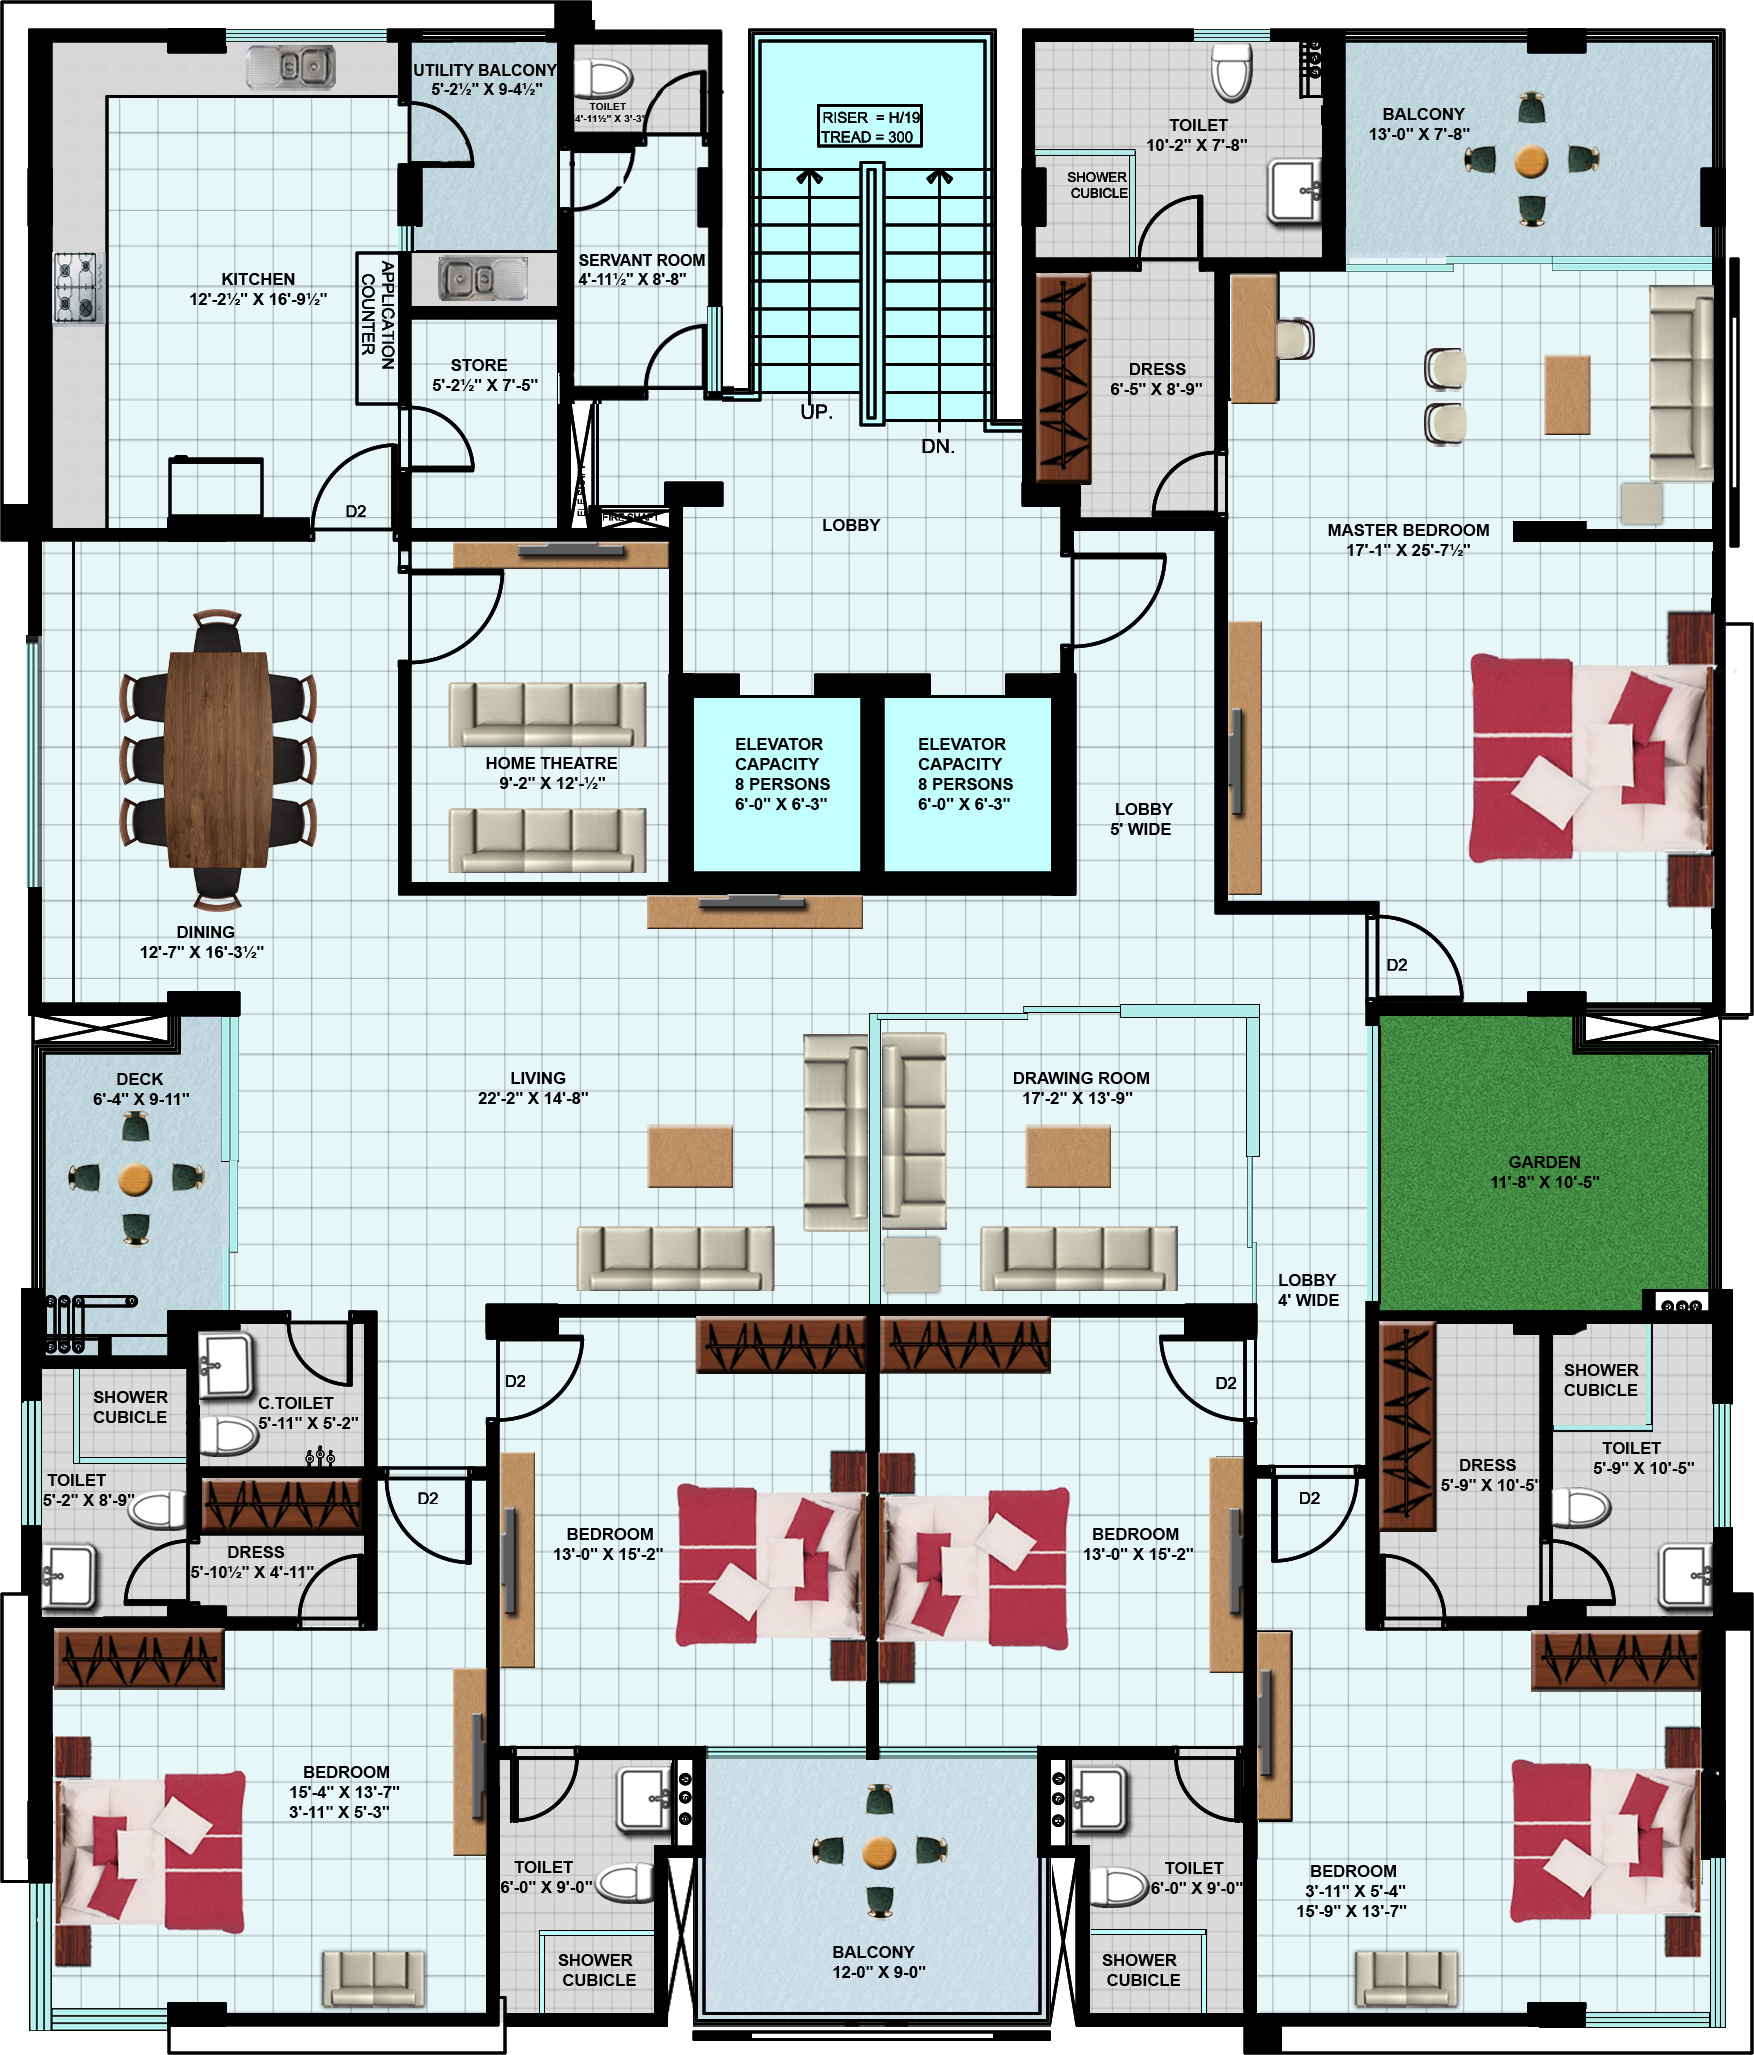window: (16, 1394, 49, 1531), (700, 1740, 872, 1763), (1707, 1399, 1733, 1538), (872, 1742, 1044, 1763), (223, 26, 392, 44), (1190, 28, 1275, 49)
